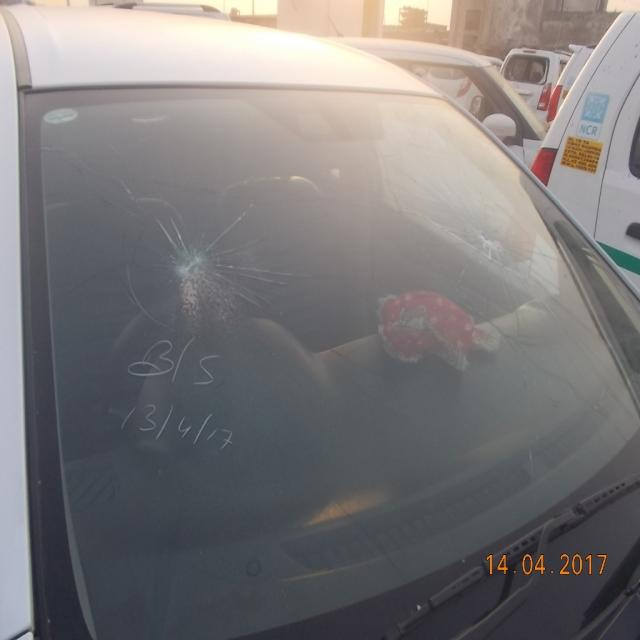Glass_Break: (148, 206, 224, 322)
